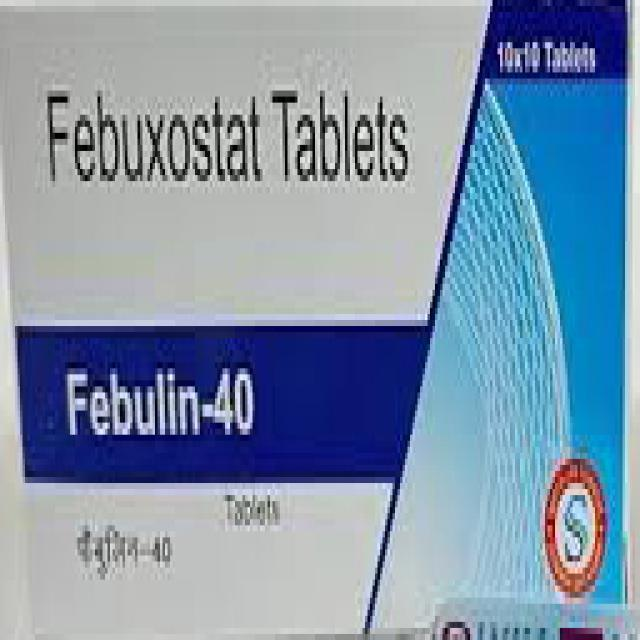drug-name: (60, 356, 262, 446)
